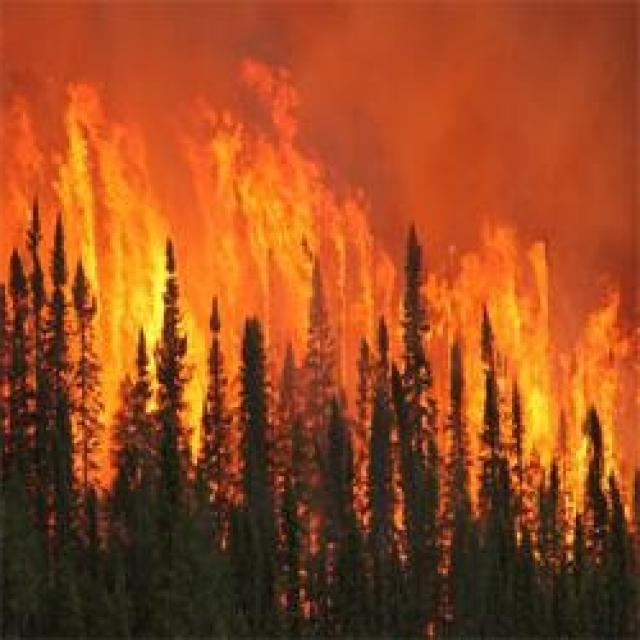fire: (12, 92, 116, 334), (256, 178, 324, 262), (570, 322, 620, 399), (117, 227, 158, 315), (520, 365, 553, 462)
